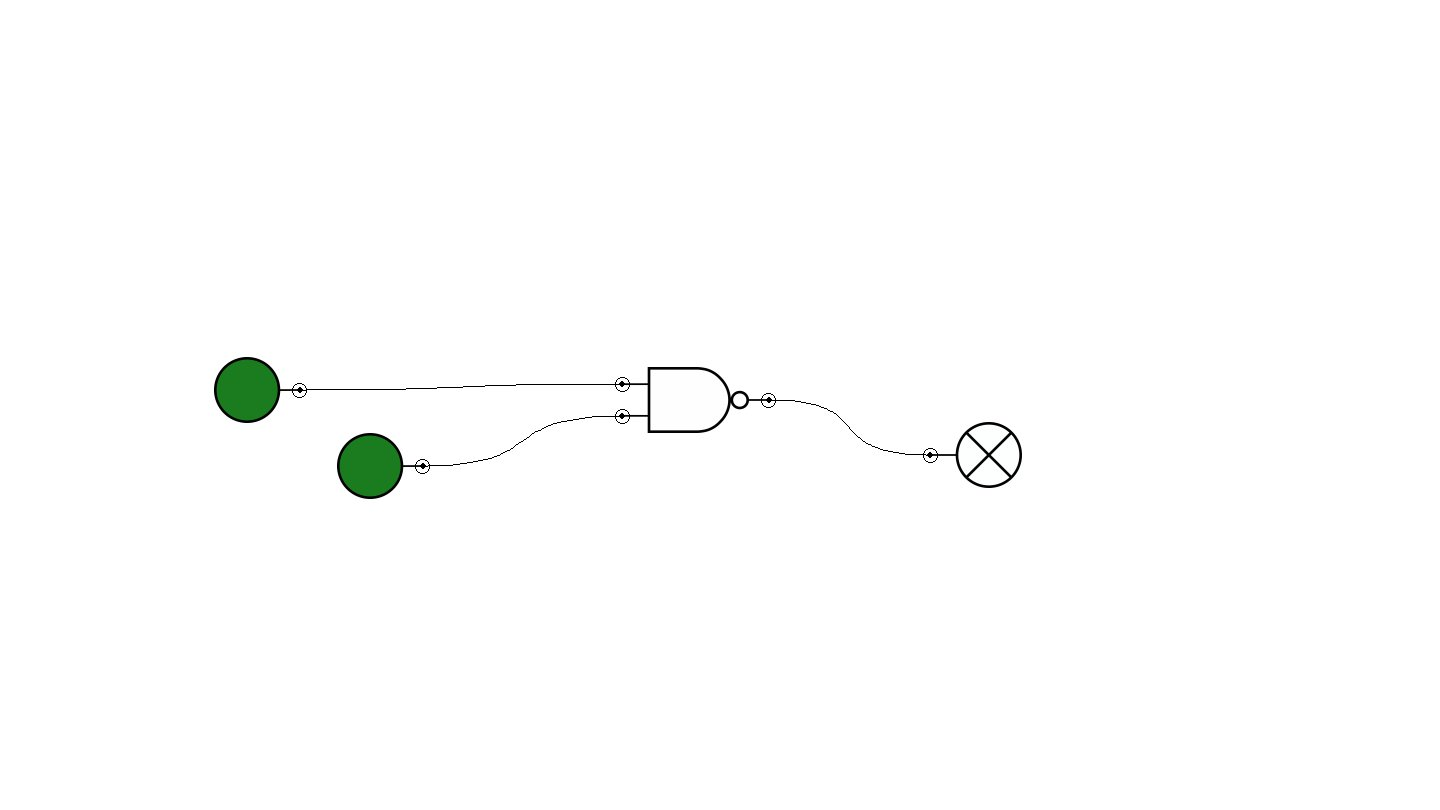bulb: (923, 422, 1022, 488)
nand: (615, 367, 776, 433)
switch_True: (337, 433, 430, 499), (214, 357, 307, 423)
